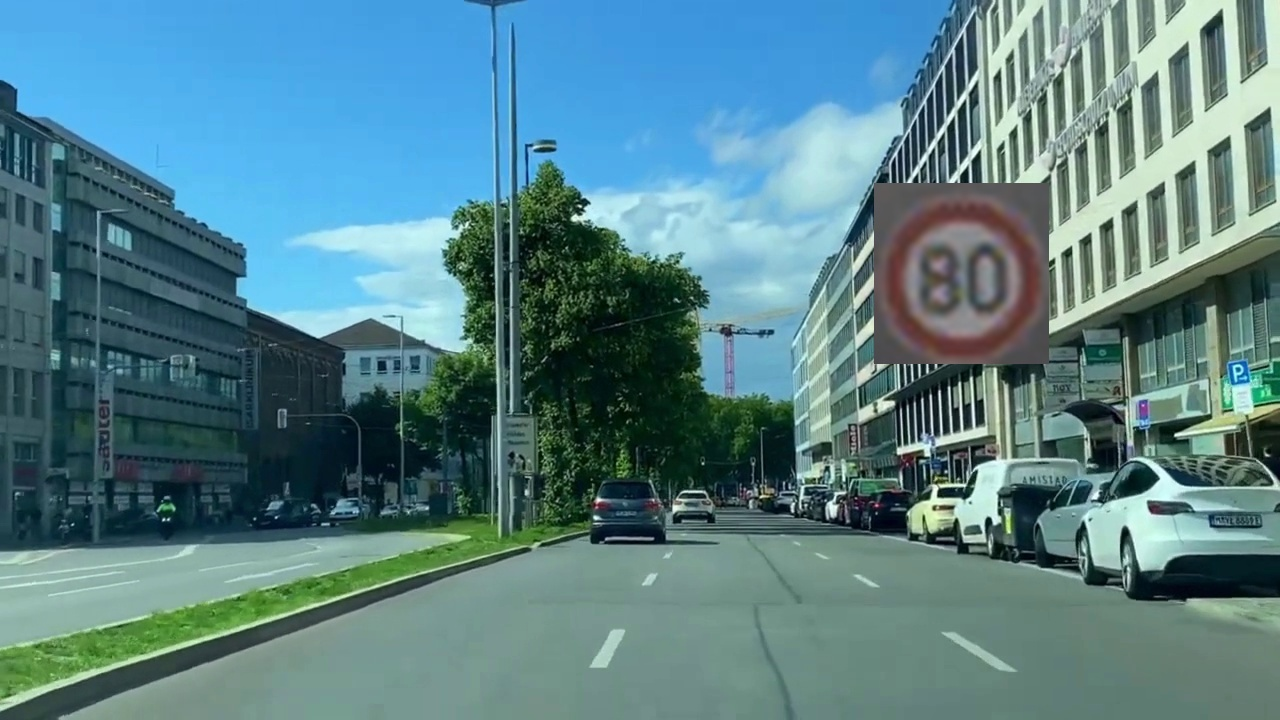Speed 80: (874, 183, 1049, 364)
